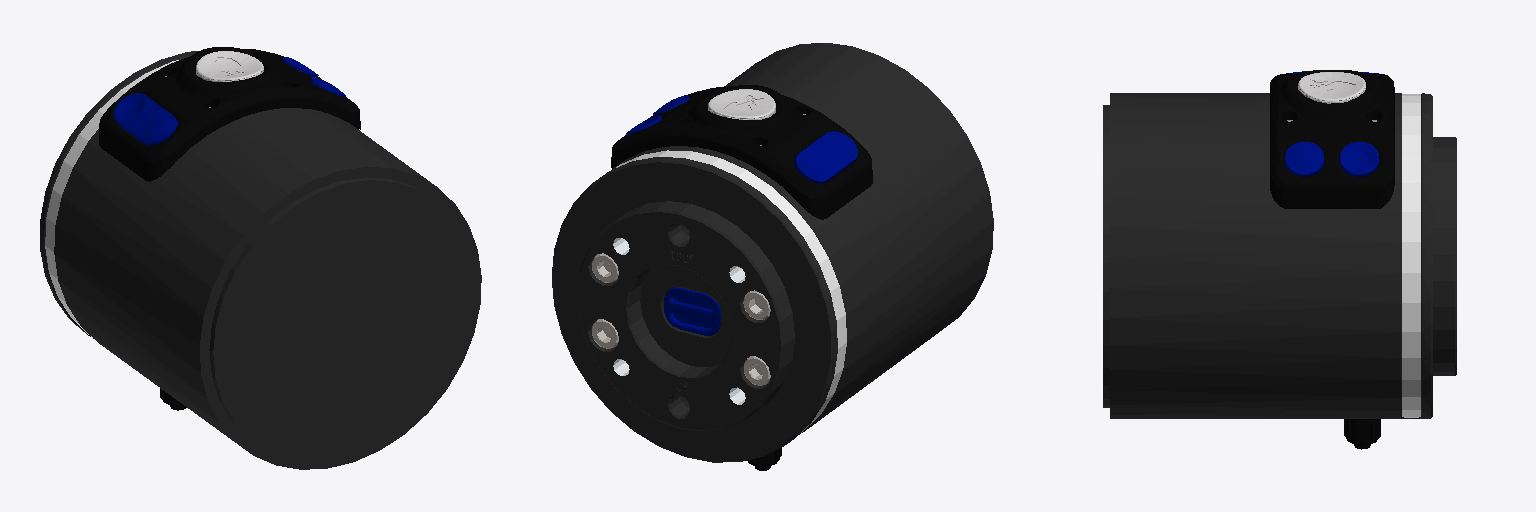
The picture shows the model from 3 angles: view 1: azimuth 30°, elevation 25°; view 2: azimuth 150°, elevation 25°; view 3: azimuth 270°, elevation 25°; orthographic projection.
Visible parts, largest first — view 1: Body1, Body2, Body4, Body5, Body3, Body8; view 2: Body3, Body1, Body2, Body4, Body5, Body9, Body8, Body33, Body32, Body31, Body30; view 3: Body1, Body2, Body3, Body4, Body8, Body7, Body6, Body10.
Part boxes in pixels (x1,y1,x2,y2): Body1: (54, 108, 481, 469); Body2: (99, 47, 360, 181); Body4: (45, 60, 178, 337); Body5: (114, 93, 177, 145); Body3: (40, 51, 197, 338); Body8: (196, 51, 263, 81); Body3: (552, 157, 837, 462); Body1: (612, 43, 993, 434); Body2: (611, 85, 872, 219); Body4: (616, 150, 846, 432); Body5: (794, 131, 857, 183); Body9: (664, 287, 720, 335); Body8: (708, 89, 775, 119); Body33: (592, 319, 618, 348); Body32: (744, 356, 770, 385); Body31: (592, 253, 618, 282); Body30: (743, 290, 770, 319); Body1: (1103, 93, 1411, 418); Body2: (1270, 70, 1394, 208); Body3: (1412, 93, 1456, 418); Body4: (1402, 94, 1420, 417); Body8: (1298, 72, 1365, 103); Body7: (1285, 142, 1324, 176); Body6: (1340, 142, 1379, 176); Body10: (1344, 419, 1380, 449).
Size of the model in its own units: 0.086 by 0.1006 by 0.0935.